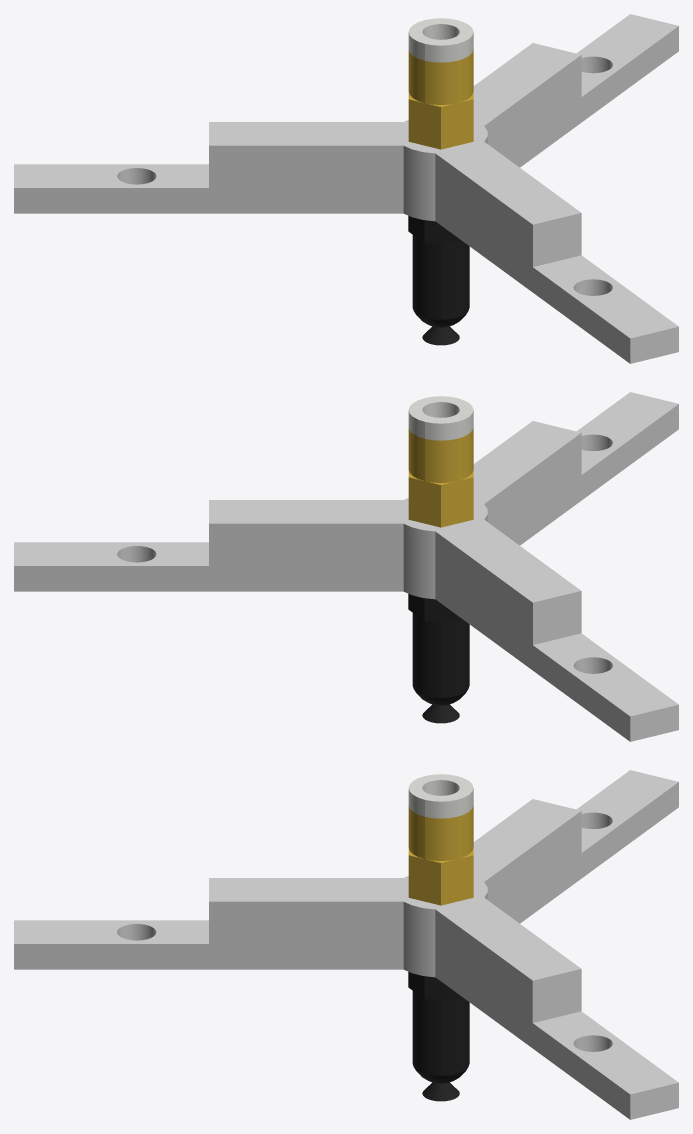
File: gripper complex.dae
The picture shows the model from 3 angles, top to bottom: view 1: azimuth 30°, elevation 25°; view 2: azimuth 150°, elevation 25°; view 3: azimuth 270°, elevation 25°; orthographic projection.
Parts seen in each view (by area): view 1: SketchUp (×7); view 2: SketchUp (×7); view 3: SketchUp (×7).
Part boxes in pixels (x1,y1,x2,y2): SketchUp (×7): (14,14,678,363); SketchUp (×7): (14,392,678,741); SketchUp (×7): (14,770,678,1119).
Bounding box in the file's own units: 3.23 × 2.8 × 1.42.
